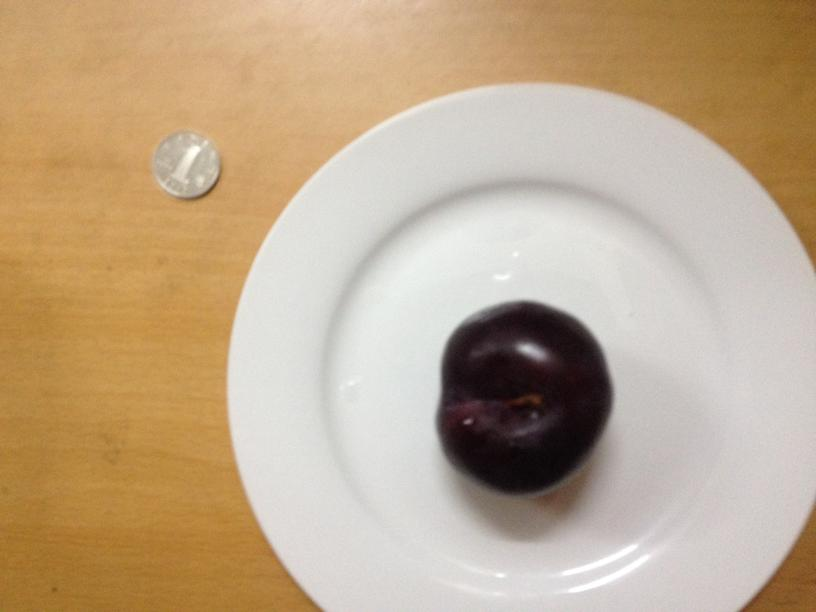coin: (154, 132, 221, 199)
plum: (434, 296, 610, 490)
